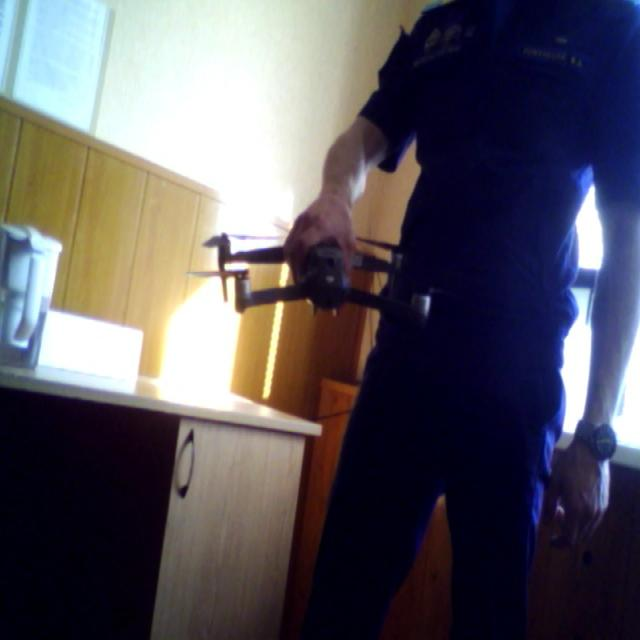drone: (189, 186, 453, 340)
